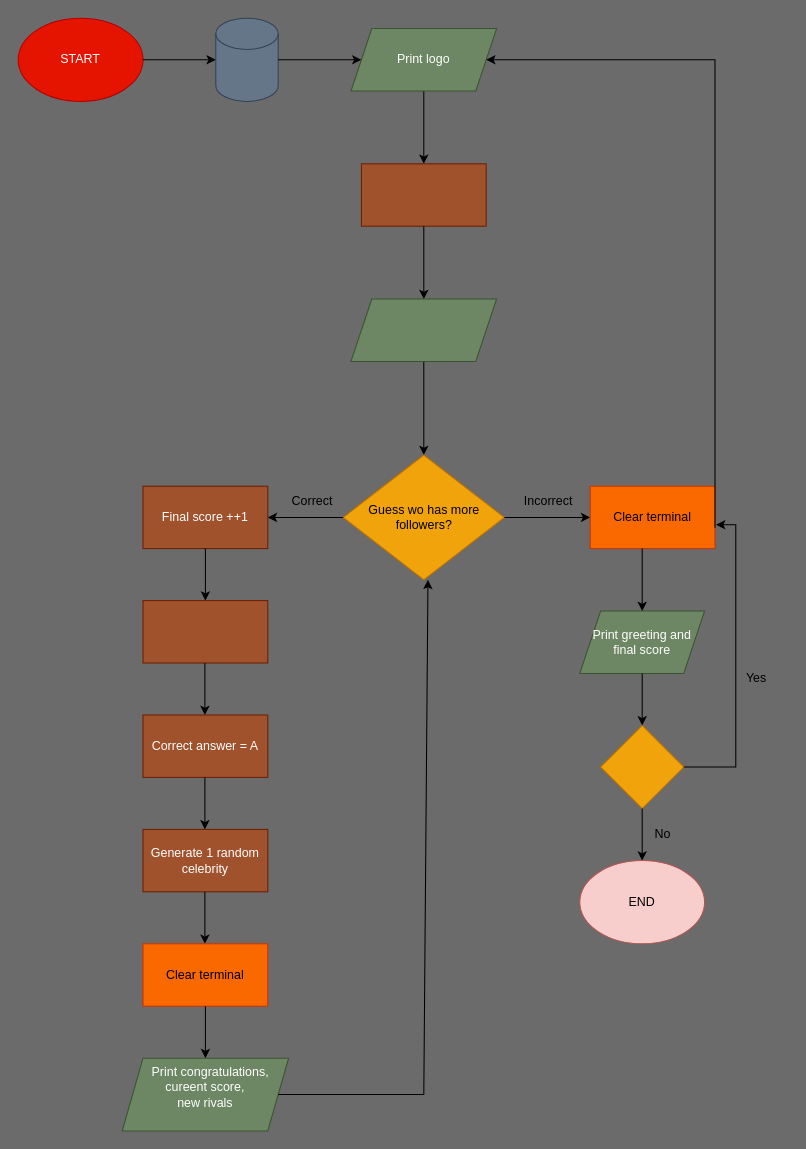
Some shapes in this 806 by 1149 pixel diagram are drawn without their labels. Each missing label, with the centre of its shape:
Generate 2 random celebrities: (423,194)
Import data, art: (246,59)
Play again?: (642,766)
Print celebrities and vs art in between: (423,329)
Remove incorrect answer from dictionary: (205,631)
